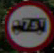Heavy Vehicles: (6, 1, 49, 47)
